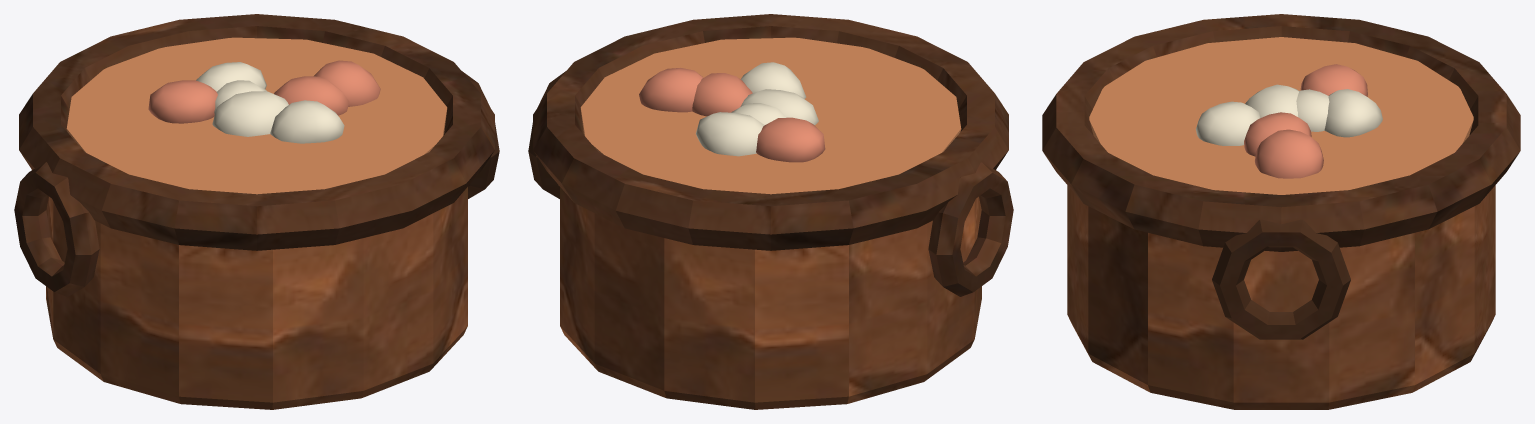
The model's file is dish_bug_hotpot.glb.
3 views of the same model, side by side, from view 1: azimuth 30°, elevation 25°; view 2: azimuth 150°, elevation 25°; view 3: azimuth 270°, elevation 25° (orthographic).
Visible parts, largest first — view 1: model; view 2: model; view 3: model.
Boxes of the visible parts, x1,y1,x2,y2 form: model: (14, 14, 499, 409); model: (528, 14, 1013, 409); model: (1042, 14, 1520, 409).
Bounding box in the file's own units: 0.2756 × 0.1464 × 0.2679.
5 materials, 2 textured.
